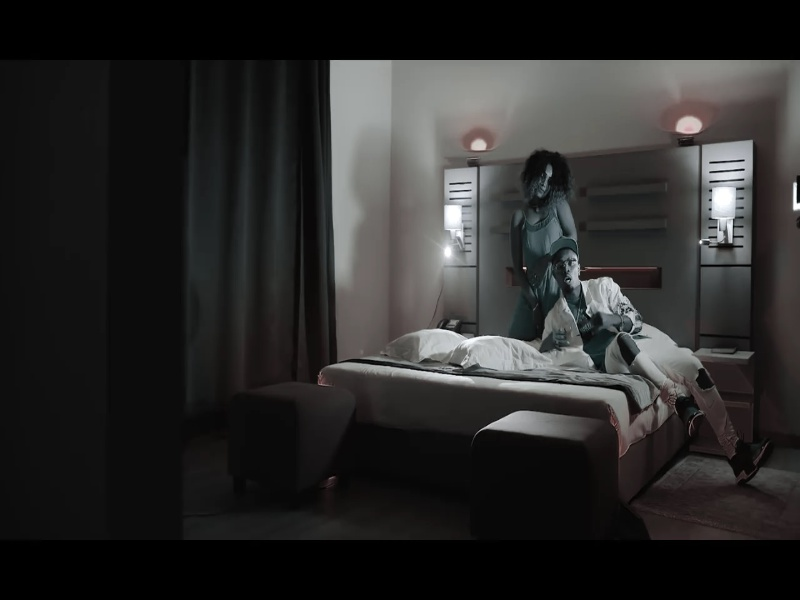TsisyArotava: (521, 149, 567, 216), (549, 236, 590, 301)
